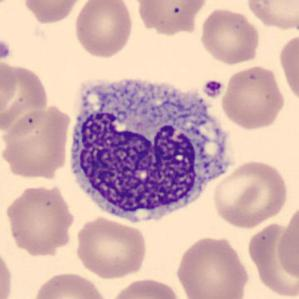Monocyte: (56, 70, 238, 231)
Platelets: (202, 78, 225, 99), (0, 38, 13, 62)
RBC: (210, 158, 291, 230), (2, 182, 76, 257), (0, 103, 72, 179), (173, 233, 251, 299), (72, 215, 149, 280), (219, 63, 287, 131), (245, 218, 297, 298), (0, 58, 50, 137), (198, 5, 262, 66), (72, 0, 134, 59), (135, 0, 210, 36), (30, 270, 110, 299), (274, 200, 299, 286), (107, 275, 183, 299), (244, 0, 298, 32), (276, 30, 299, 105), (20, 0, 86, 24), (0, 57, 18, 121), (0, 244, 14, 299)
